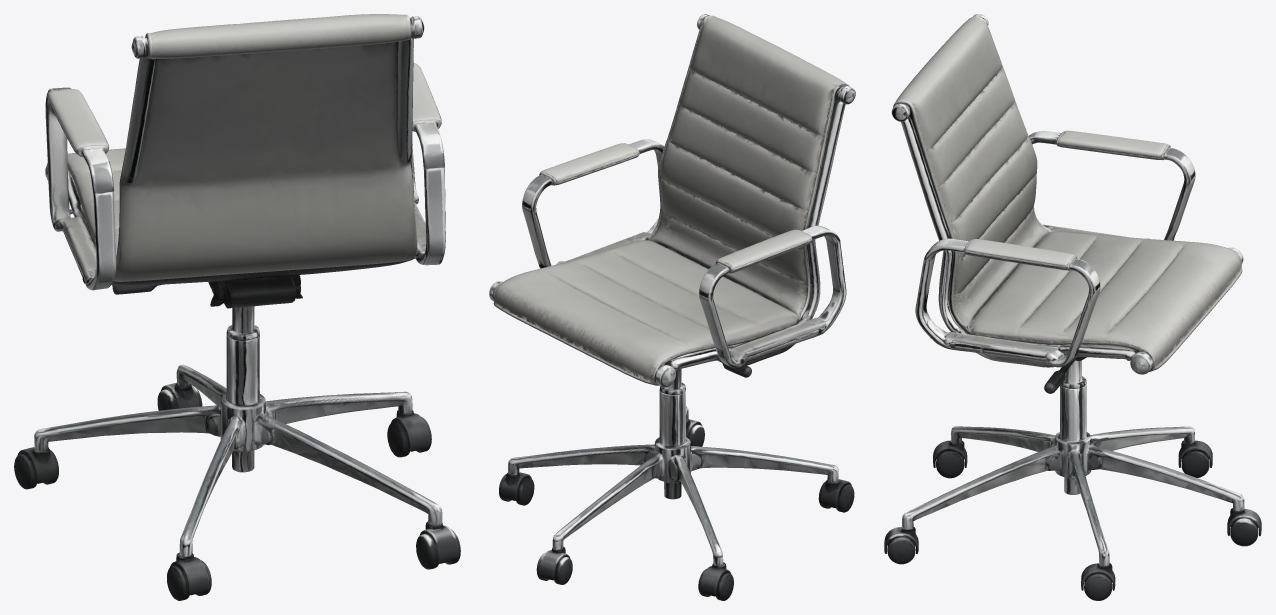
File: chair.glb
3 views of the same model, side by side, from view 1: azimuth 30°, elevation 25°; view 2: azimuth 150°, elevation 25°; view 3: azimuth 270°, elevation 25° (orthographic). The views are drawn at different scales.
Parts seen in each view (by area): view 1: tripo_node_db9f39a1-e538-4aff-b083-316334563c2c; view 2: tripo_node_db9f39a1-e538-4aff-b083-316334563c2c; view 3: tripo_node_db9f39a1-e538-4aff-b083-316334563c2c.
Boxes of the visible parts, <box> form: tripo_node_db9f39a1-e538-4aff-b083-316334563c2c: <box>14,14,460,600</box>; tripo_node_db9f39a1-e538-4aff-b083-316334563c2c: <box>489,14,855,600</box>; tripo_node_db9f39a1-e538-4aff-b083-316334563c2c: <box>884,14,1261,600</box>.
Bounding box in the file's own units: 0.7012 × 0.9796 × 0.7464.
Materials: 1 (1 with a texture image).
